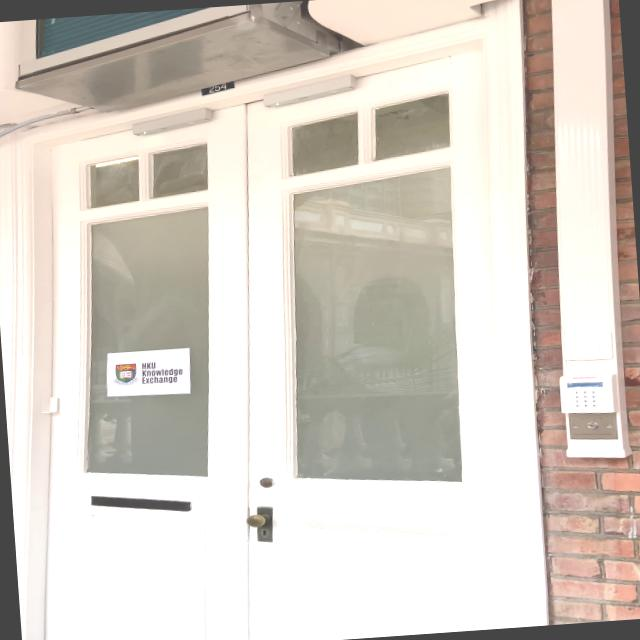room254: (198, 78, 236, 96)
